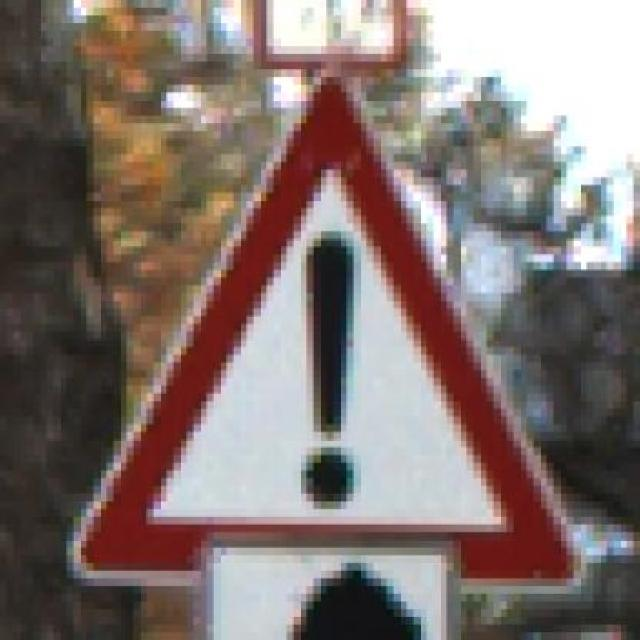Attention Please-: (60, 61, 594, 594)
